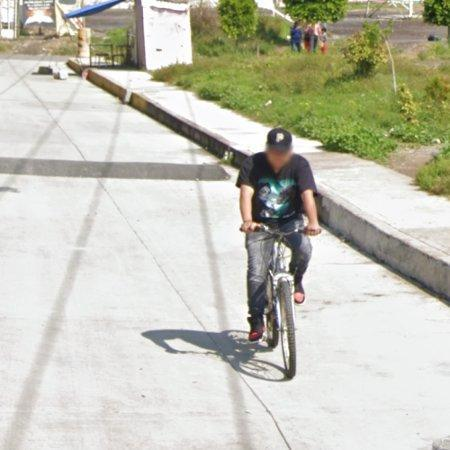bicycles: (261, 226, 297, 379)
